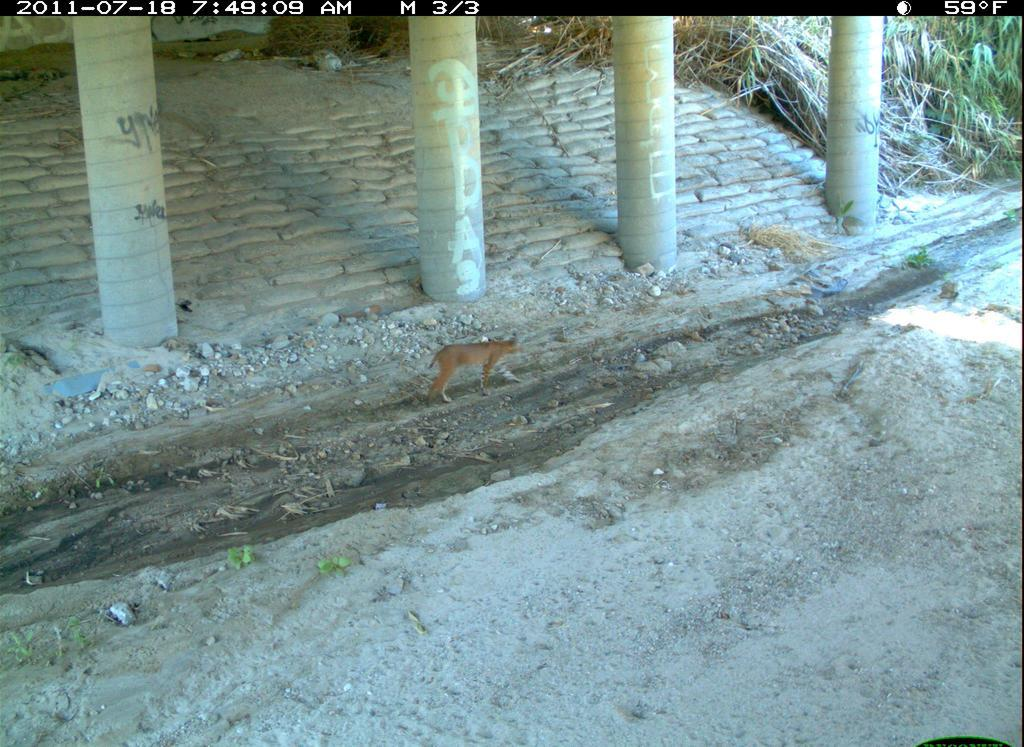bobcat: (848, 656, 1024, 747)
